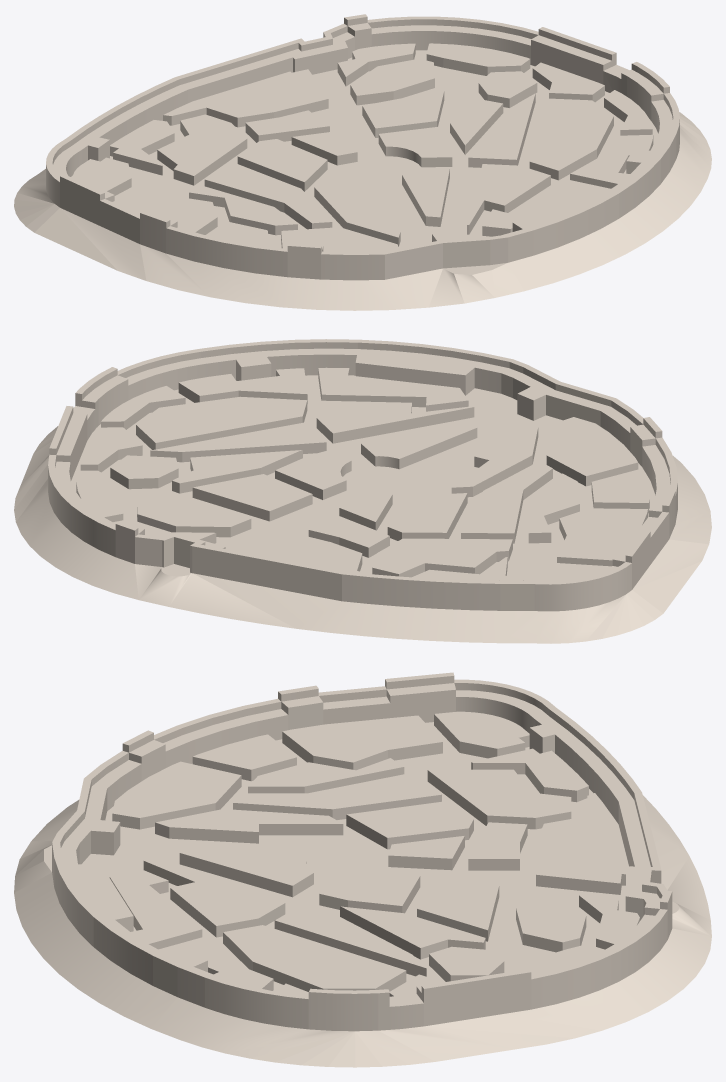
Rendered from ERBIL CITADEL.glb.
3 views of the same model, one above another, from view 1: azimuth 30°, elevation 25°; view 2: azimuth 150°, elevation 25°; view 3: azimuth 270°, elevation 25° (orthographic). The views are drawn at different scales.
Parts seen in each view (by area): view 1: Geom3D_; view 2: Geom3D_; view 3: Geom3D_.
Boxes of the visible parts, <box> form: Geom3D_: <box>14,14,711,310</box>; Geom3D_: <box>14,339,711,643</box>; Geom3D_: <box>14,672,711,1067</box>.
Size of the model in its own units: 5.27 by 0.4 by 4.4.
